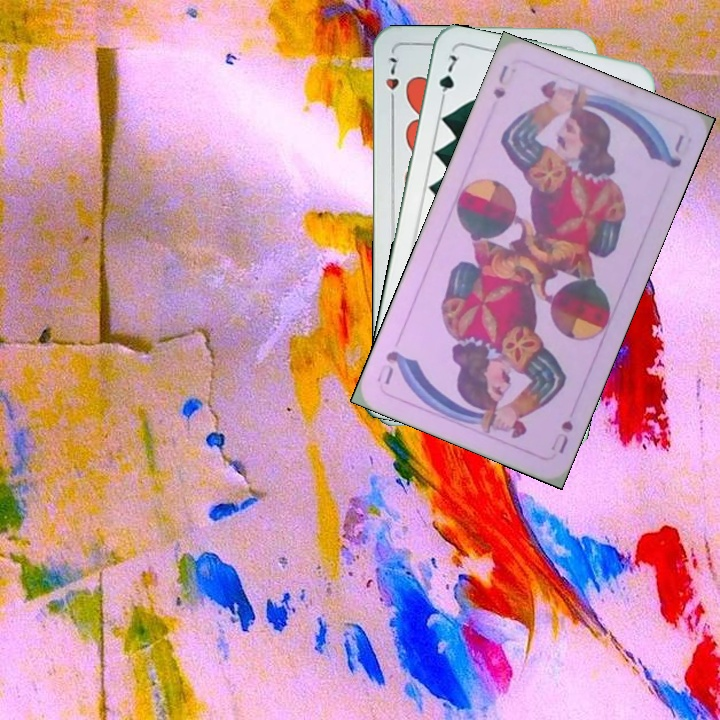G7: (435, 50, 463, 108)
H7: (382, 53, 402, 109)
SU: (546, 415, 576, 456), (489, 60, 511, 101)
